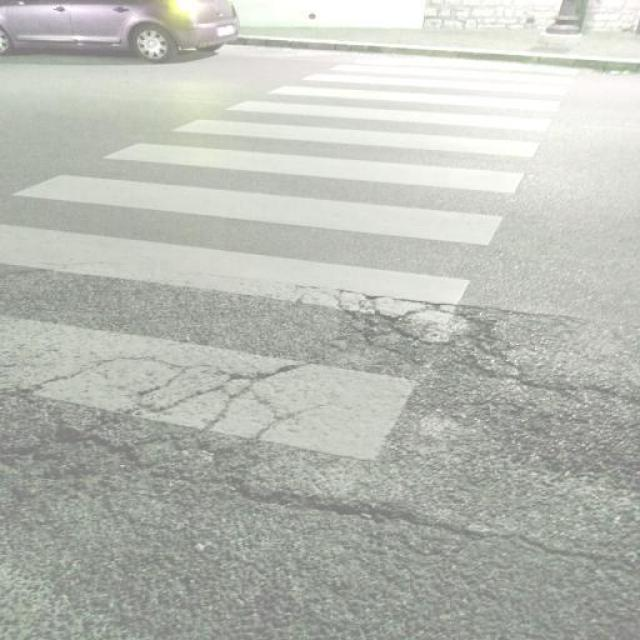crosswalk: (4, 47, 584, 461)
